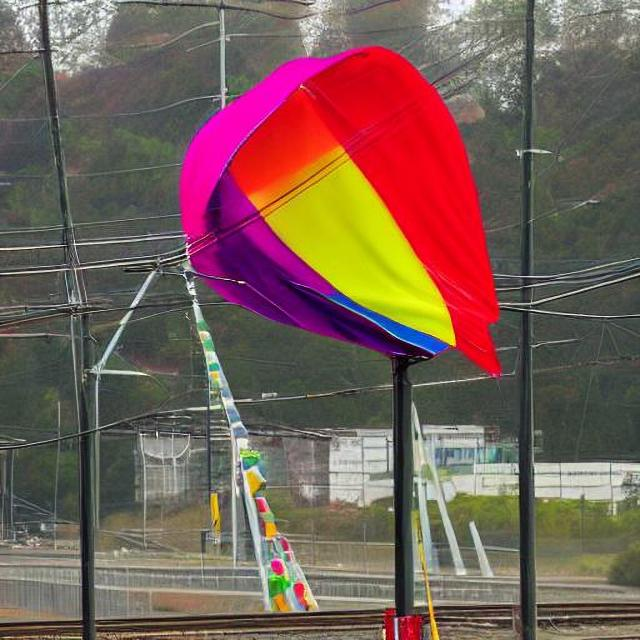floating object: (177, 40, 501, 385), (241, 450, 316, 612), (210, 489, 222, 535)
